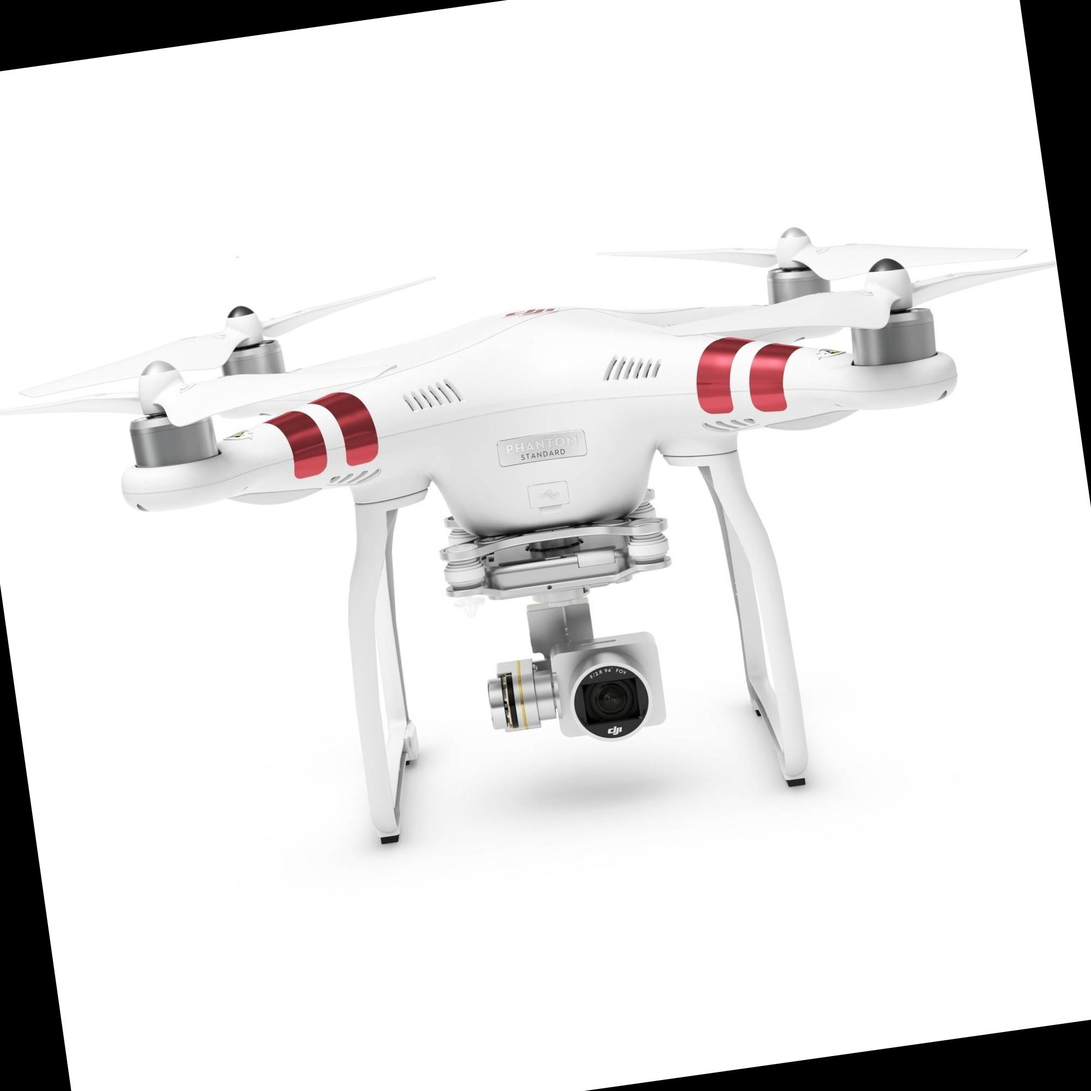drone: (3, 120, 1087, 667)
